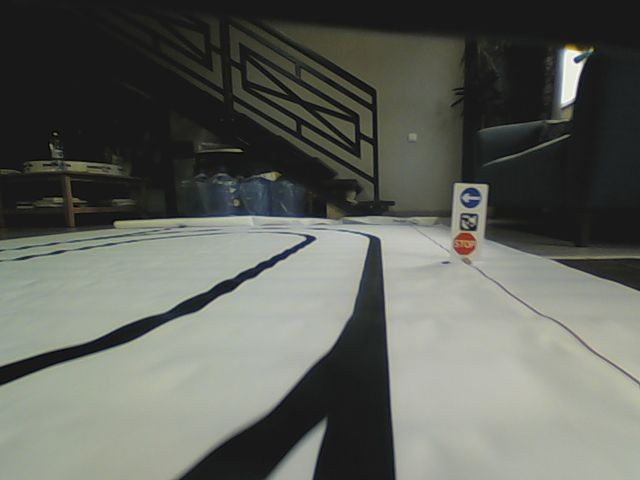Stop: (453, 231, 480, 255)
